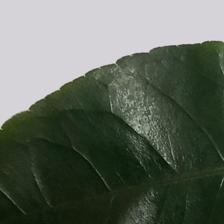healthy: (2, 62, 224, 224)
